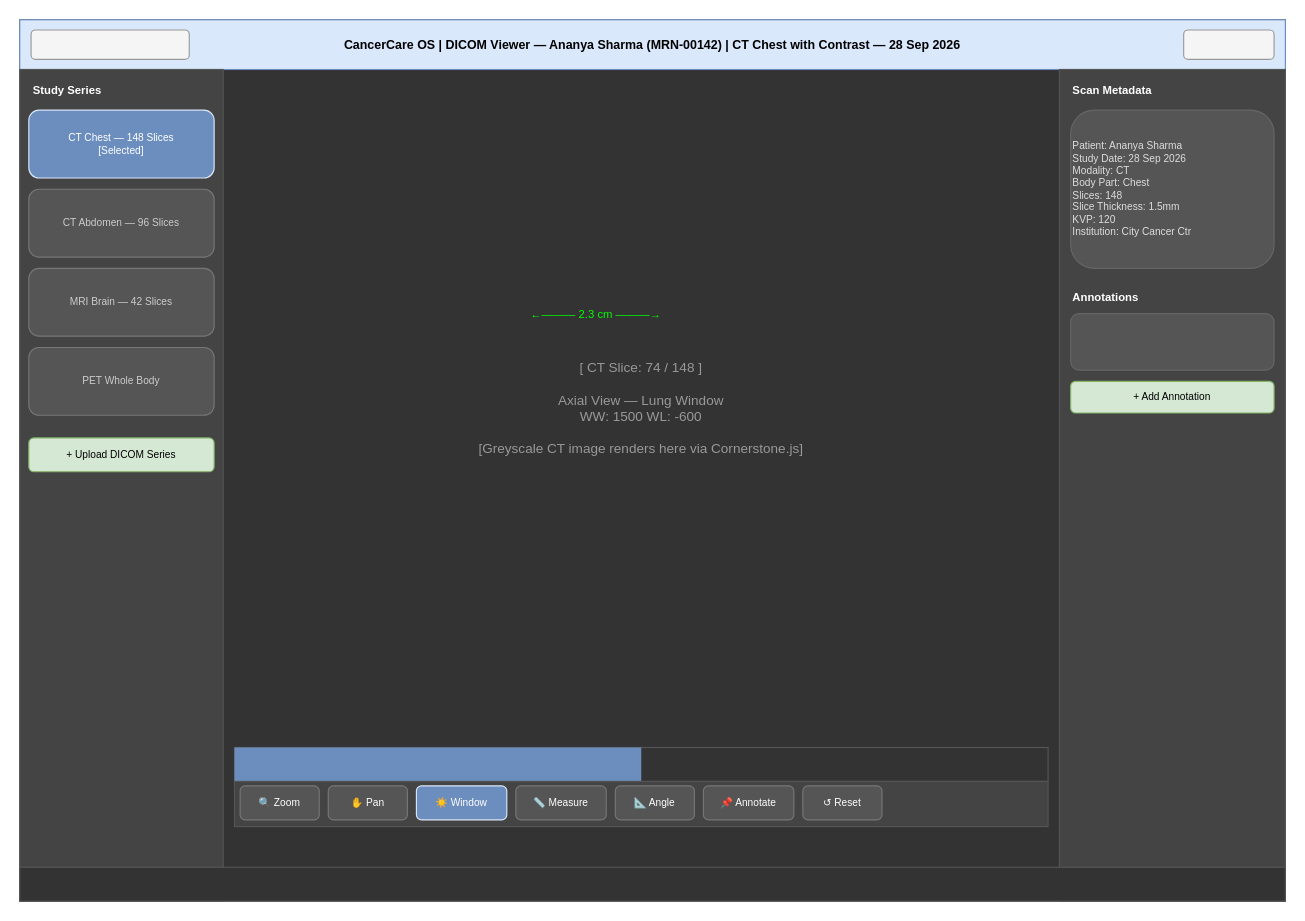
This 1305x921 diagram has some shape labels left out. Each missing label, with the box of its shape:
CancerCare OS v1.0 | DICOM Viewer (Cornerstone.js) | Tue 30 Sep 2026 10:05 AM: (19, 866, 1285, 901)
← Back to Dashboard: (30, 29, 189, 59)
◀ Slice 74/148 ▶ | Scroll or drag to navigate: (234, 747, 641, 781)
⛶ Full Screen: (1183, 29, 1274, 59)
📌 Slice 74: 2.3cm opacity noted in RUL — Dr. Patel: (1070, 312, 1274, 370)
